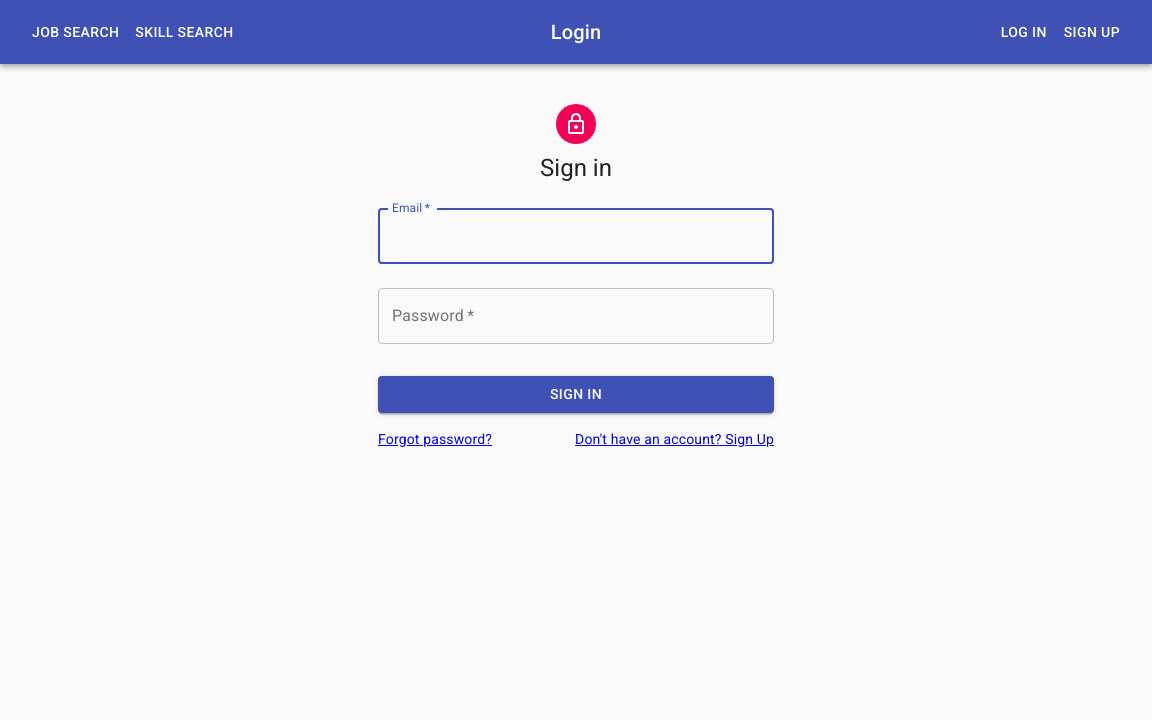
Load profile careers › Load careers profile failure
Type "email@email.com" into the field with id "email" at {"x": 576, "y": 236}, box [378,208,774,264]
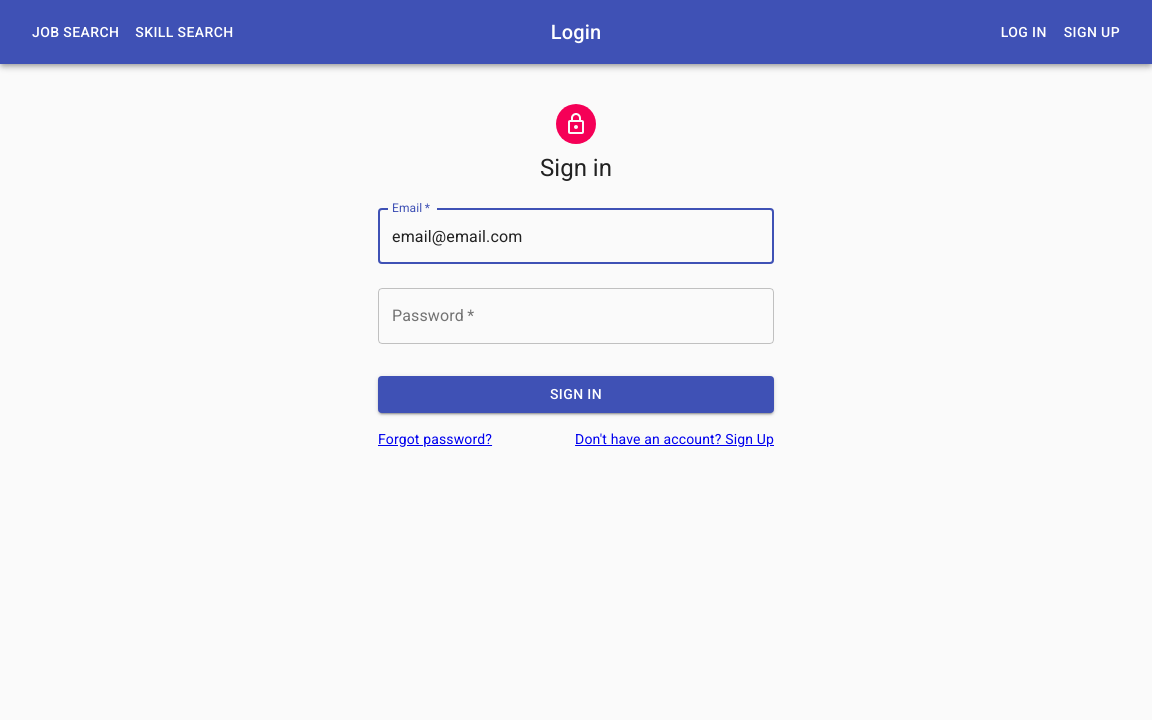
Type "password" into the password field labelled "Password *" at {"x": 576, "y": 316}, box [378,288,774,344]
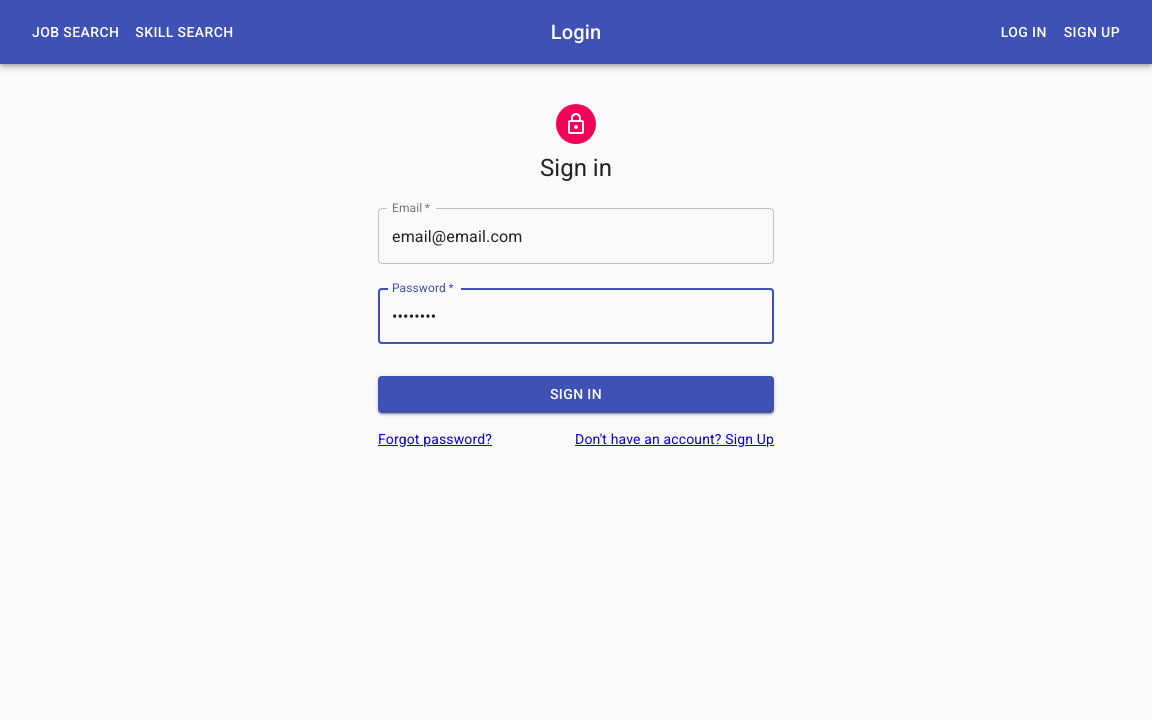
Click the button with id "submit" at {"x": 576, "y": 395}, box [378,376,774,413]
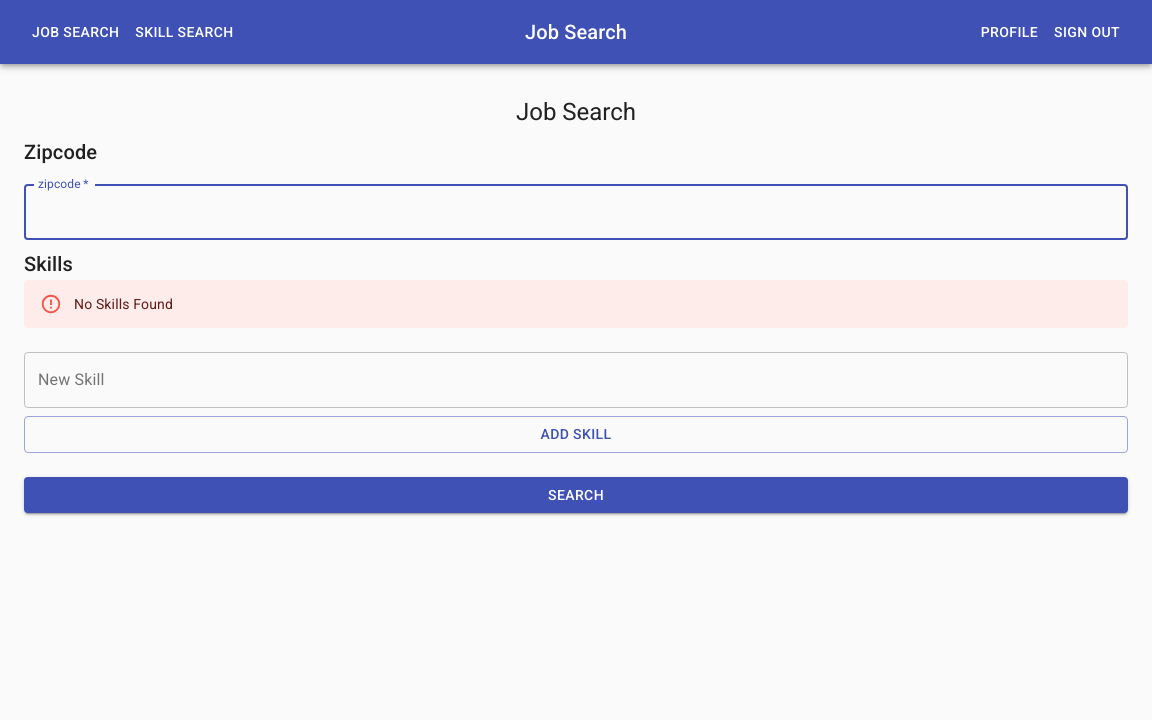
Click the button "Profile" at {"x": 1010, "y": 32}, box [981,24,1038,40]
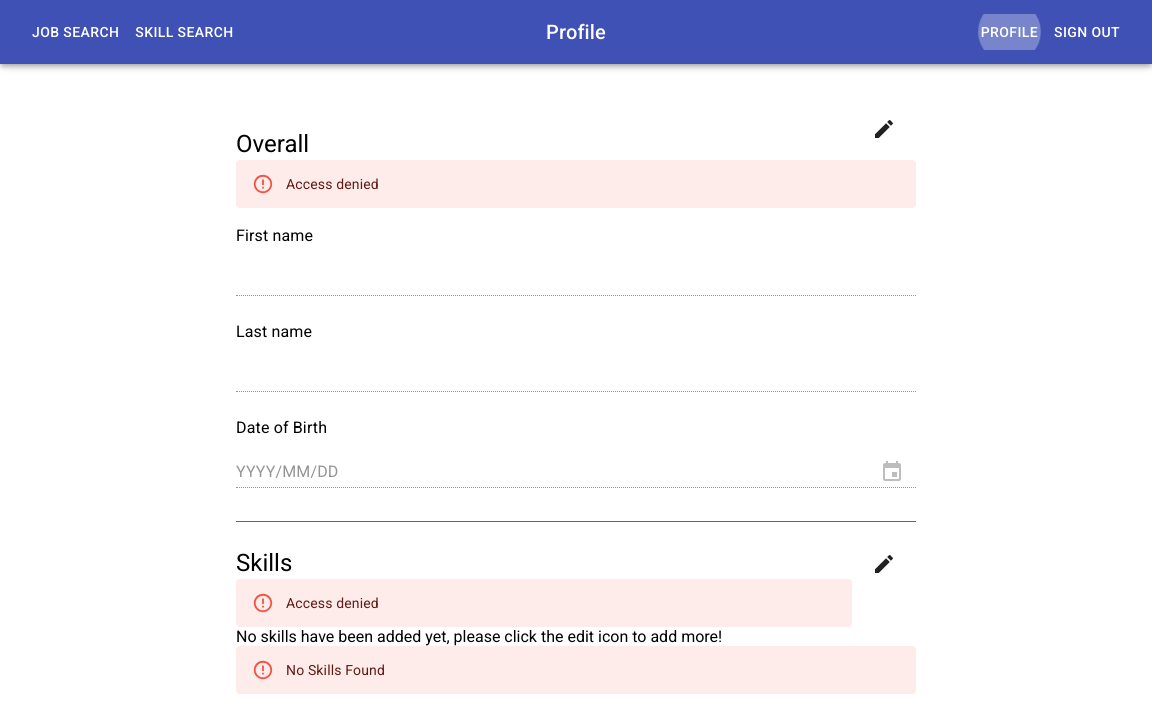
Check: the text "Access denied" below "Overall" is shown, box [286,176,379,192]
